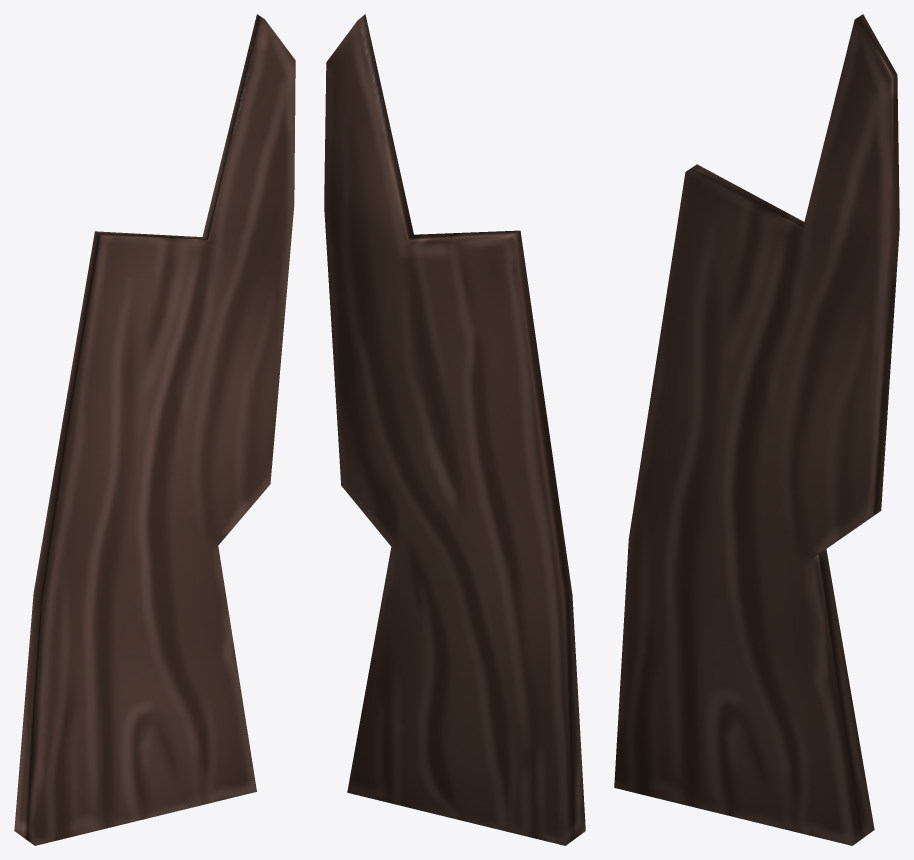
The model's file is particle_Wood04.fbx.
3 views of the same model, side by side, from view 1: azimuth 30°, elevation 25°; view 2: azimuth 150°, elevation 25°; view 3: azimuth 330°, elevation 25° (orthographic). The views are drawn at different scales.
Visible parts, largest first — view 1: particle_Wood04; view 2: particle_Wood04; view 3: particle_Wood04.
Boxes of the visible parts, x1,y1,x2,y2 form: particle_Wood04: [14, 14, 295, 845]; particle_Wood04: [324, 14, 585, 845]; particle_Wood04: [614, 14, 899, 845].
Size of the model in its own units: 26.77 by 76.71 by 4.23.
